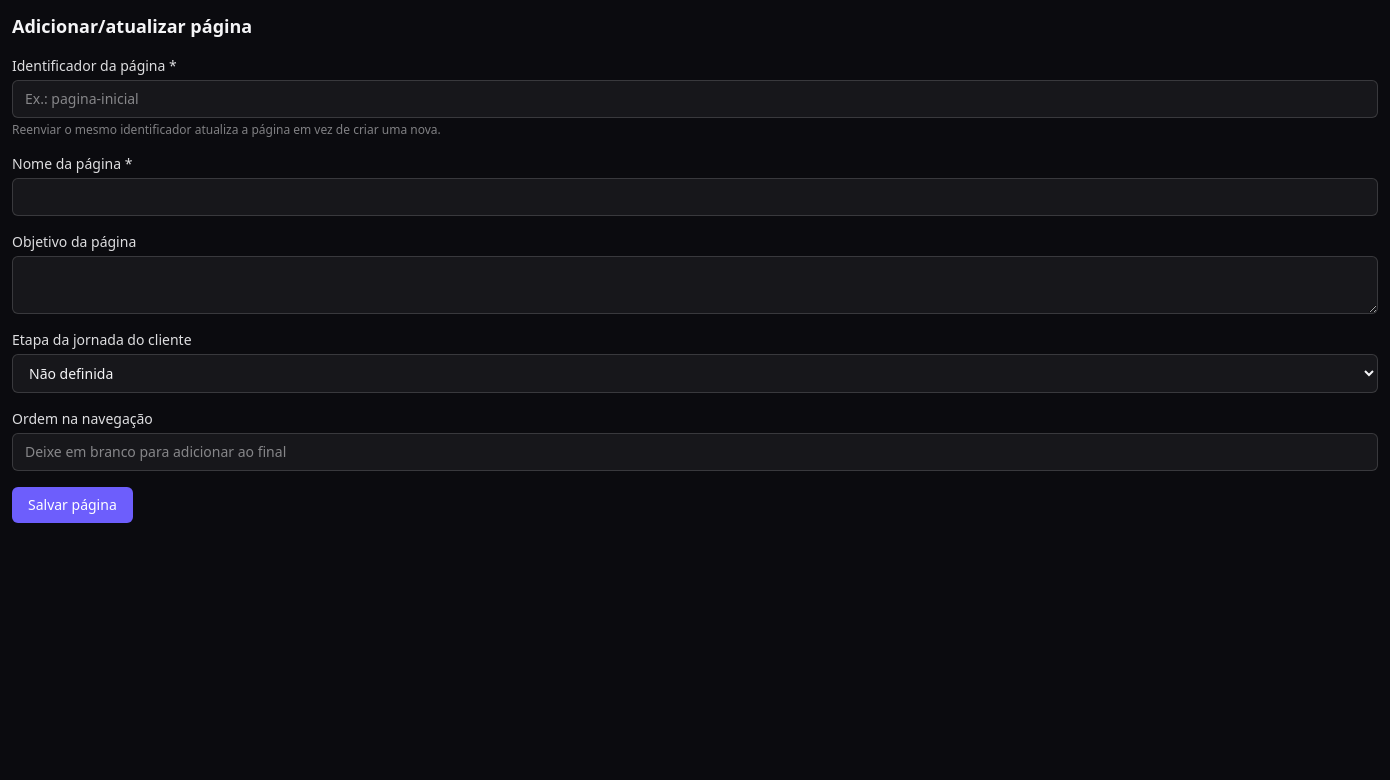
Test: SitePageForm › shows validation errors returned by the action
Click the button "Salvar página": point(72, 505) [12,487,133,523]
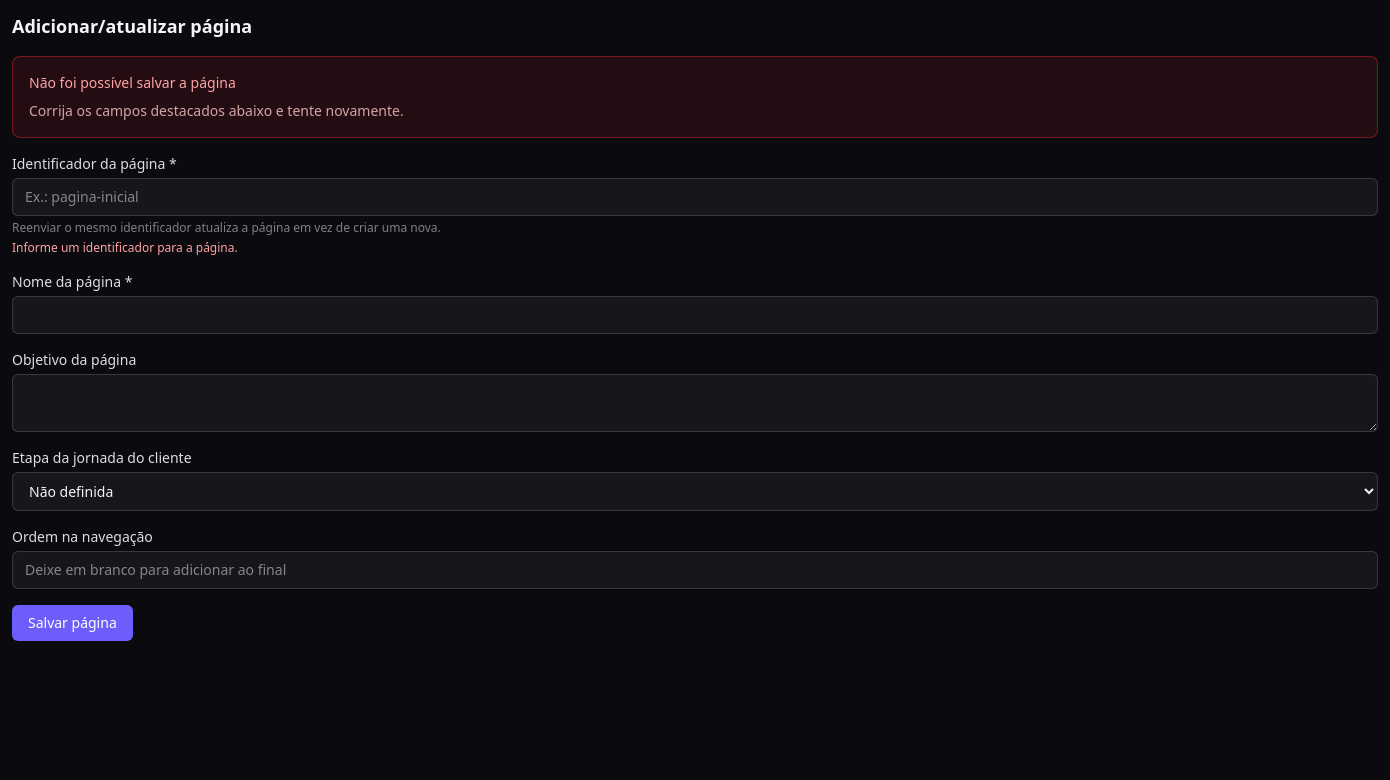
Result: the message shows "Não foi possível salvar a página" at [29,73,236,92]
